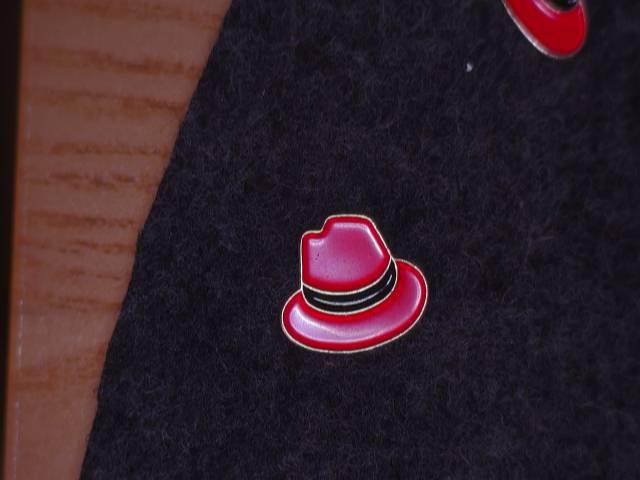Red-Hat: (269, 197, 458, 369), (478, 0, 605, 84)
